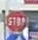stop: (4, 9, 28, 32)
